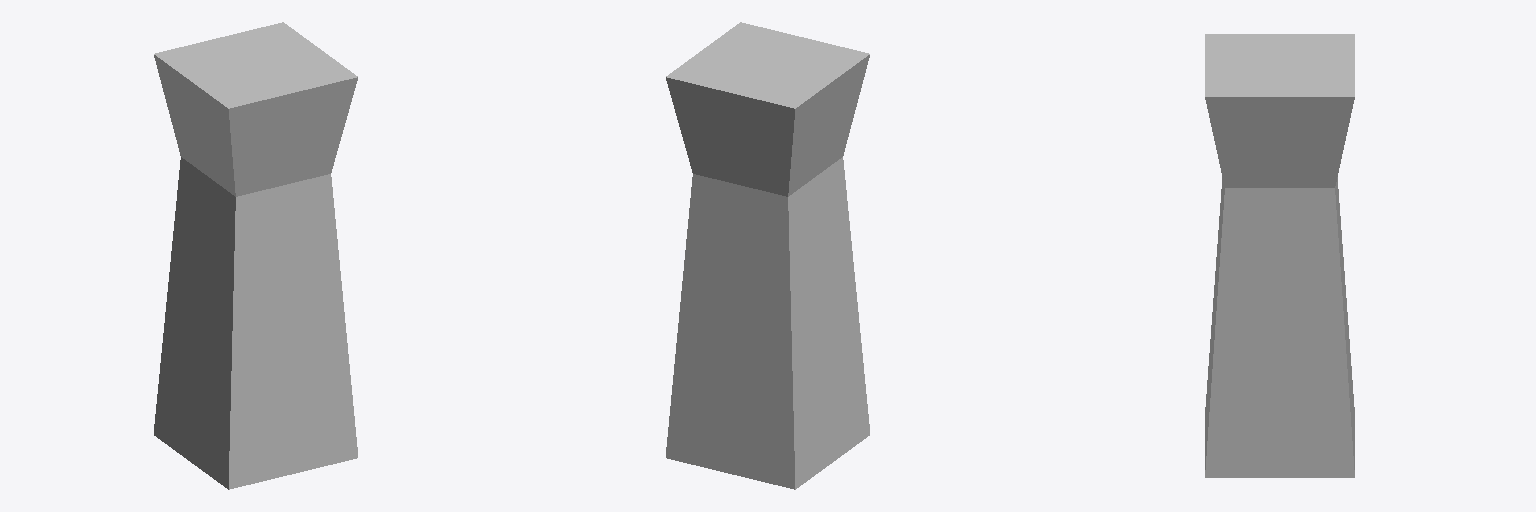
File: Vertical_Grip.obj
The picture shows the model from 3 angles: view 1: azimuth 30°, elevation 25°; view 2: azimuth 150°, elevation 25°; view 3: azimuth 270°, elevation 25°; orthographic projection.
Parts seen in each view (by area): view 1: Vertical_Grip_Cube.041; view 2: Vertical_Grip_Cube.041; view 3: Vertical_Grip_Cube.041.
Boxes of the visible parts, box(x1,y1,x2,y2) form: Vertical_Grip_Cube.041: box(154, 22, 357, 489); Vertical_Grip_Cube.041: box(666, 22, 869, 489); Vertical_Grip_Cube.041: box(1205, 34, 1354, 477).
Bounding box in the file's own units: 0.0349 × 0.0979 × 0.0349.